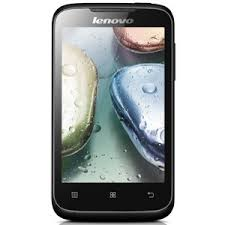lenovo: (48, 1, 175, 222)
